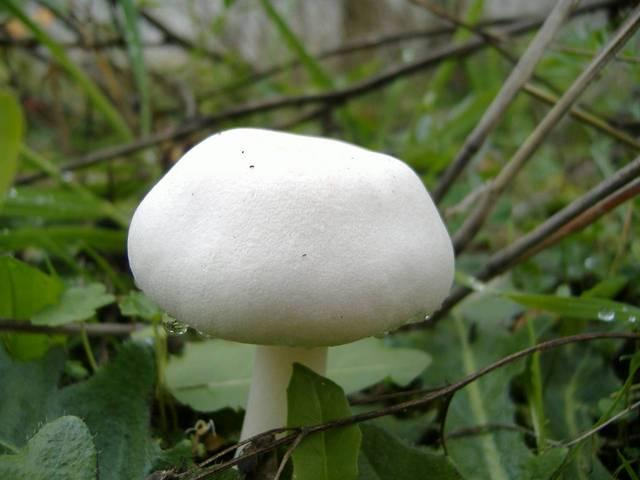poisonous_mushroom: (125, 124, 456, 473)
